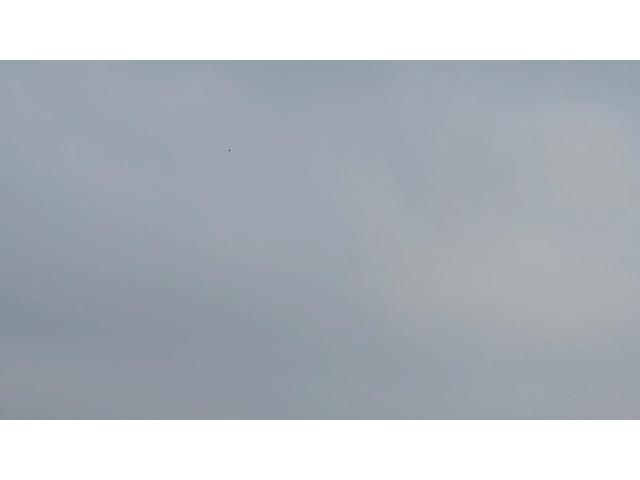Anti-Drone: (224, 148, 238, 152)
